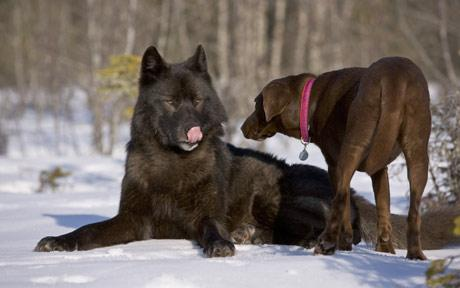dog: (239, 56, 441, 260)
wolf: (32, 45, 460, 256)
